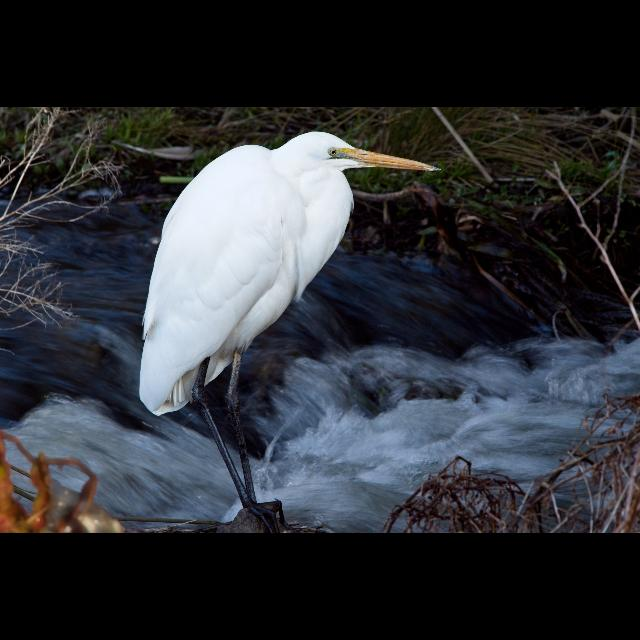egret: (144, 129, 438, 493)
